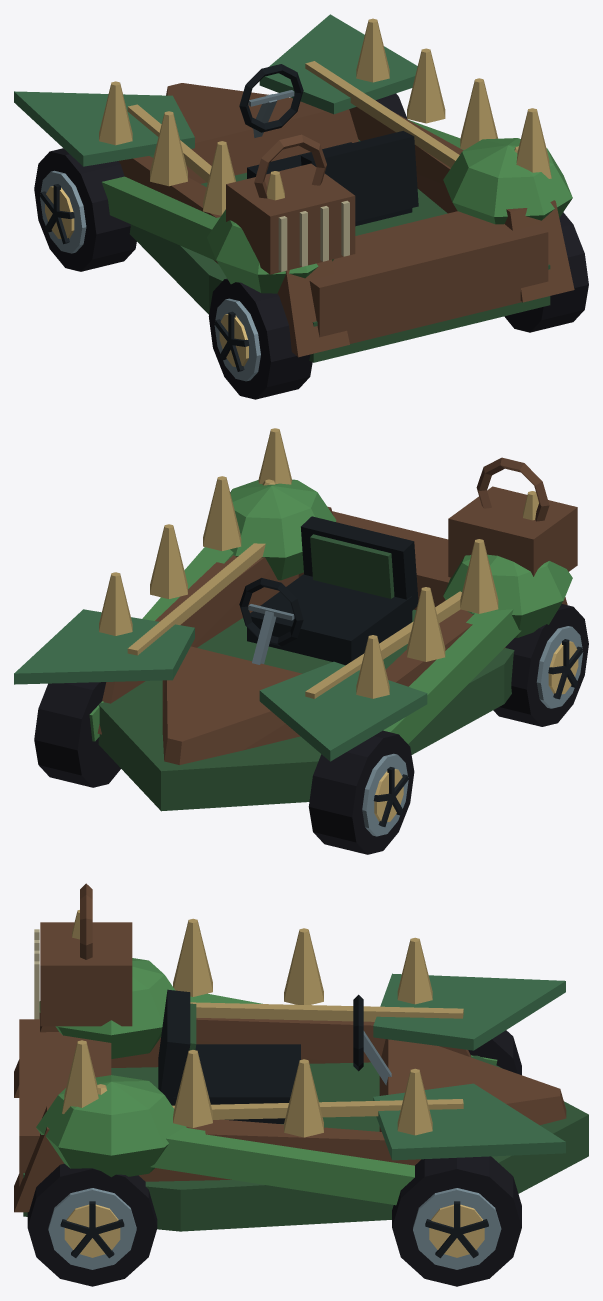
The model's file is kart.glb.
The picture shows the model from 3 angles, top to bottom: view 1: azimuth 30°, elevation 25°; view 2: azimuth 150°, elevation 25°; view 3: azimuth 270°, elevation 25°; orthographic projection. The views are drawn at different scales.
Visible parts, largest first — view 1: identity-nature-nature-root-cradle-and-leaf-bow, identity-nature-motif-spines, identity-nature-motif-basket, identity-nature-driver-cockpit, wheel-front-left, wheel-rear-left, wheel-rear-right; view 2: identity-nature-nature-root-cradle-and-leaf-bow, identity-nature-driver-cockpit, identity-nature-motif-spines, wheel-front-left, identity-nature-motif-basket, wheel-rear-left, wheel-front-right; view 3: identity-nature-nature-root-cradle-and-leaf-bow, wheel-front-right, identity-nature-motif-spines, wheel-rear-right, identity-nature-motif-basket, identity-nature-driver-cockpit, wheel-front-left.
Boxes of the visible parts, x1,y1,x2,y2 form: identity-nature-nature-root-cradle-and-leaf-bow: (14, 14, 574, 362); identity-nature-motif-spines: (99, 18, 551, 215); identity-nature-motif-basket: (226, 134, 355, 274); identity-nature-driver-cockpit: (239, 64, 418, 226); wheel-front-left: (34, 148, 136, 271); wheel-rear-left: (208, 278, 312, 399); wheel-rear-right: (504, 212, 588, 332); identity-nature-nature-root-cradle-and-leaf-bow: (14, 479, 572, 811); identity-nature-driver-cockpit: (239, 516, 418, 665); identity-nature-motif-spines: (99, 428, 538, 698); wheel-front-left: (308, 730, 414, 854); identity-nature-motif-basket: (448, 457, 577, 577); wheel-rear-left: (493, 604, 588, 726); wheel-front-right: (34, 682, 120, 787); identity-nature-nature-root-cradle-and-leaf-bow: (14, 958, 588, 1231); wheel-front-right: (392, 1156, 521, 1286); identity-nature-motif-spines: (62, 910, 432, 1137); wheel-rear-right: (27, 1163, 157, 1286); identity-nature-motif-basket: (34, 883, 132, 1026); identity-nature-driver-cockpit: (158, 989, 391, 1123); wheel-front-left: (468, 1030, 521, 1075).
Size of the model in its own units: 2 by 1.37 by 2.75.
